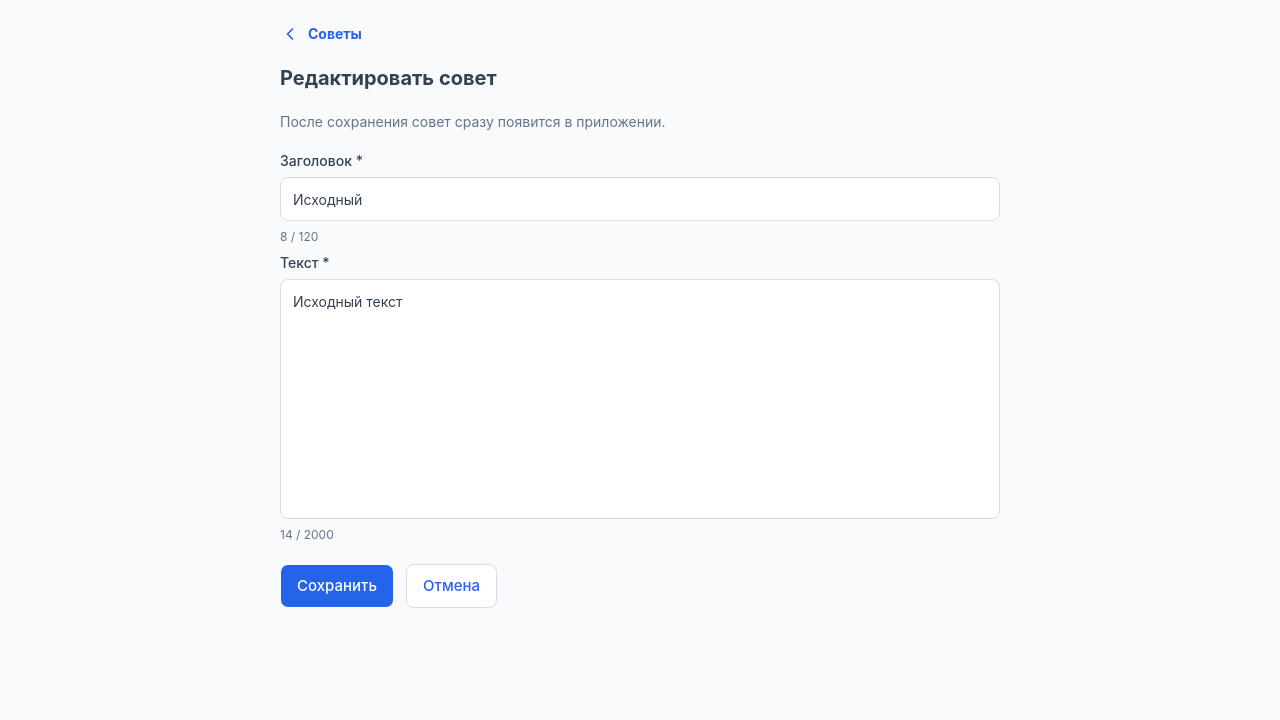
Test: retains the edit buffer if the connection returns while reading is unavailable
Type " — правка" into the text box labelled "Текст *" at (640, 399), box [280,279,1000,519]
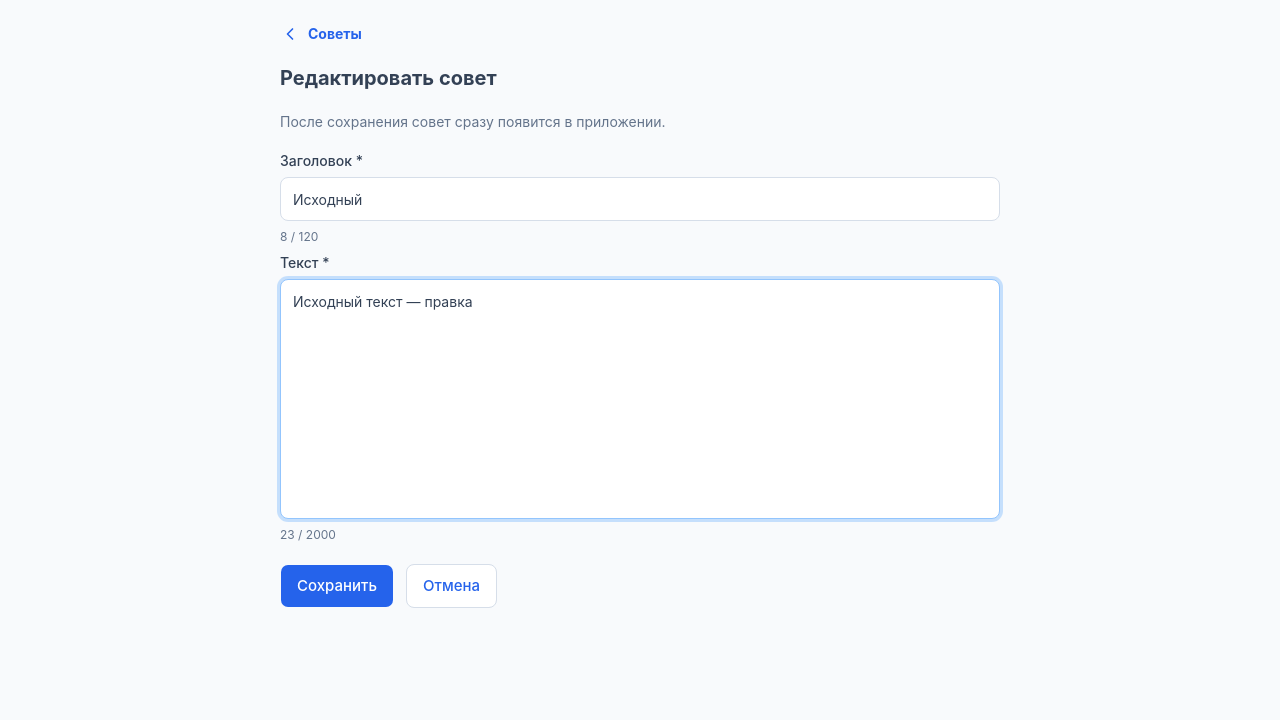
Expected: the text box labelled "Текст *" holds "Исходный текст — правка", [280,279,1000,519]
Click the link "Отмена" at (452, 586), box [406,564,497,608]
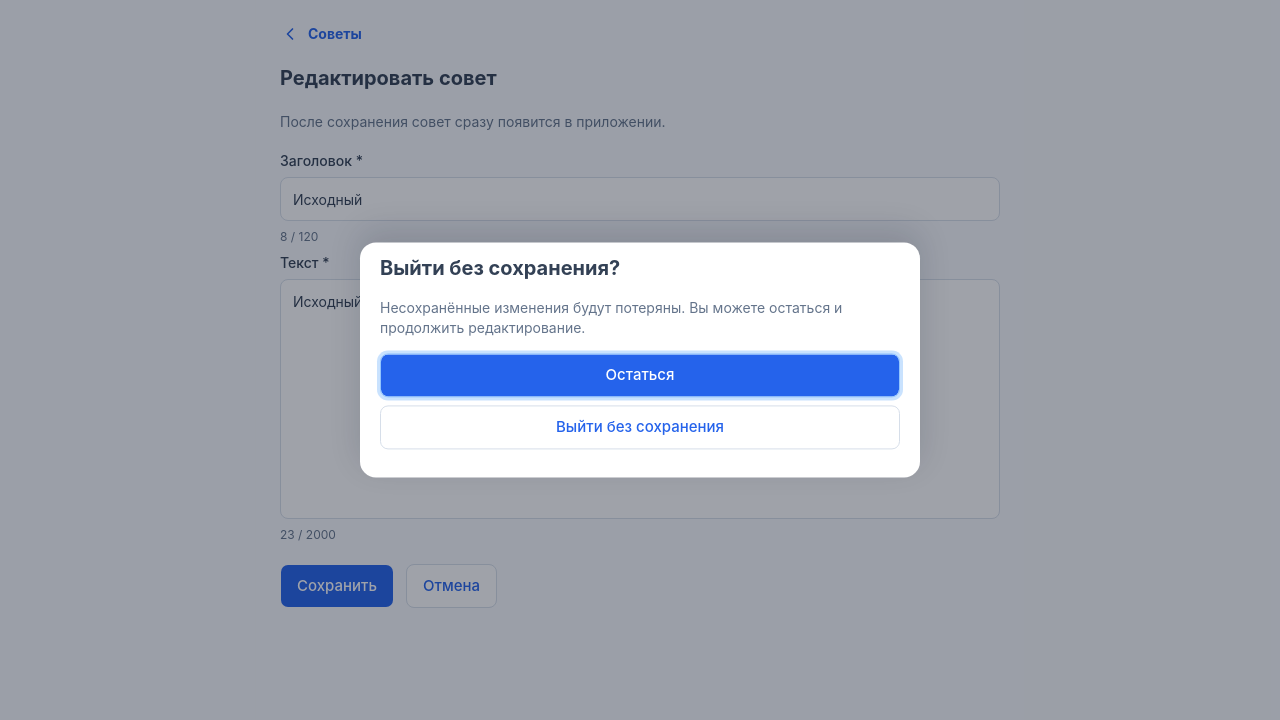
Expected: the dialog is shown, [360,242,920,478]
